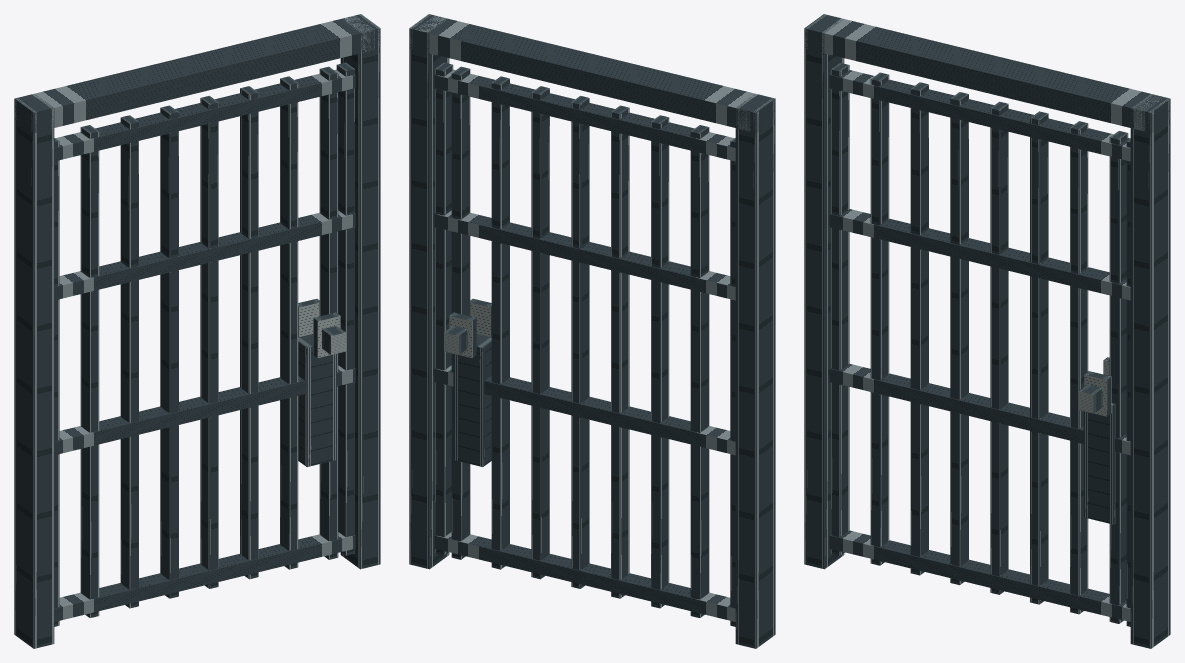
File: puerta_electronica_reja.glb
3 renders of one model, left to right at view 1: azimuth 30°, elevation 25°; view 2: azimuth 150°, elevation 25°; view 3: azimuth 330°, elevation 25°, orthographic.
Visible parts, largest first — view 1: HOJA_PIVOTE, MARCO_FIJO; view 2: HOJA_PIVOTE, MARCO_FIJO; view 3: HOJA_PIVOTE, MARCO_FIJO.
Boxes of the visible parts, bbox=[...] form: HOJA_PIVOTE: bbox=[54, 62, 355, 626]; MARCO_FIJO: bbox=[14, 14, 380, 648]; HOJA_PIVOTE: bbox=[434, 62, 735, 626]; MARCO_FIJO: bbox=[409, 14, 775, 648]; HOJA_PIVOTE: bbox=[829, 62, 1130, 626]; MARCO_FIJO: bbox=[804, 14, 1170, 648].
Size of the model in its own units: 1.52 by 2.25 by 0.32.
1 material, 1 textured.
